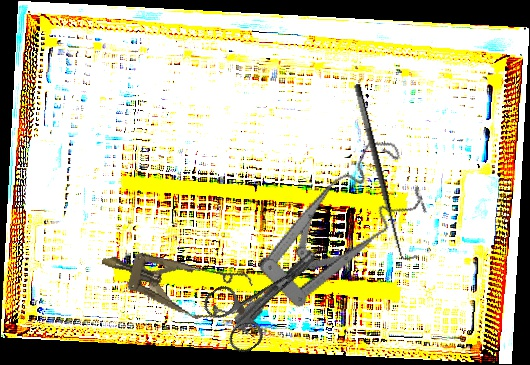Hook Surgical: (350, 79, 420, 267)
Iris Scissors: (199, 229, 341, 359)
Speculum: (192, 131, 445, 334), (94, 231, 256, 332)
